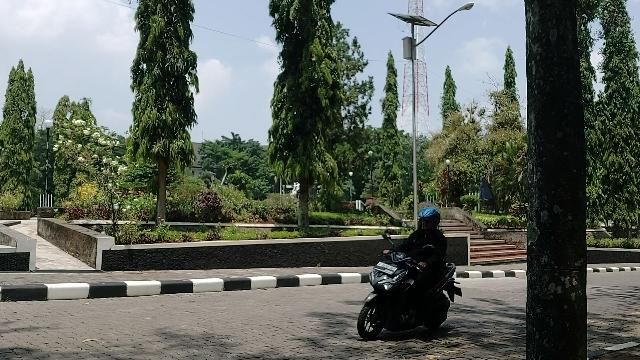helm: (419, 207, 443, 233)
motor: (358, 230, 465, 342)
